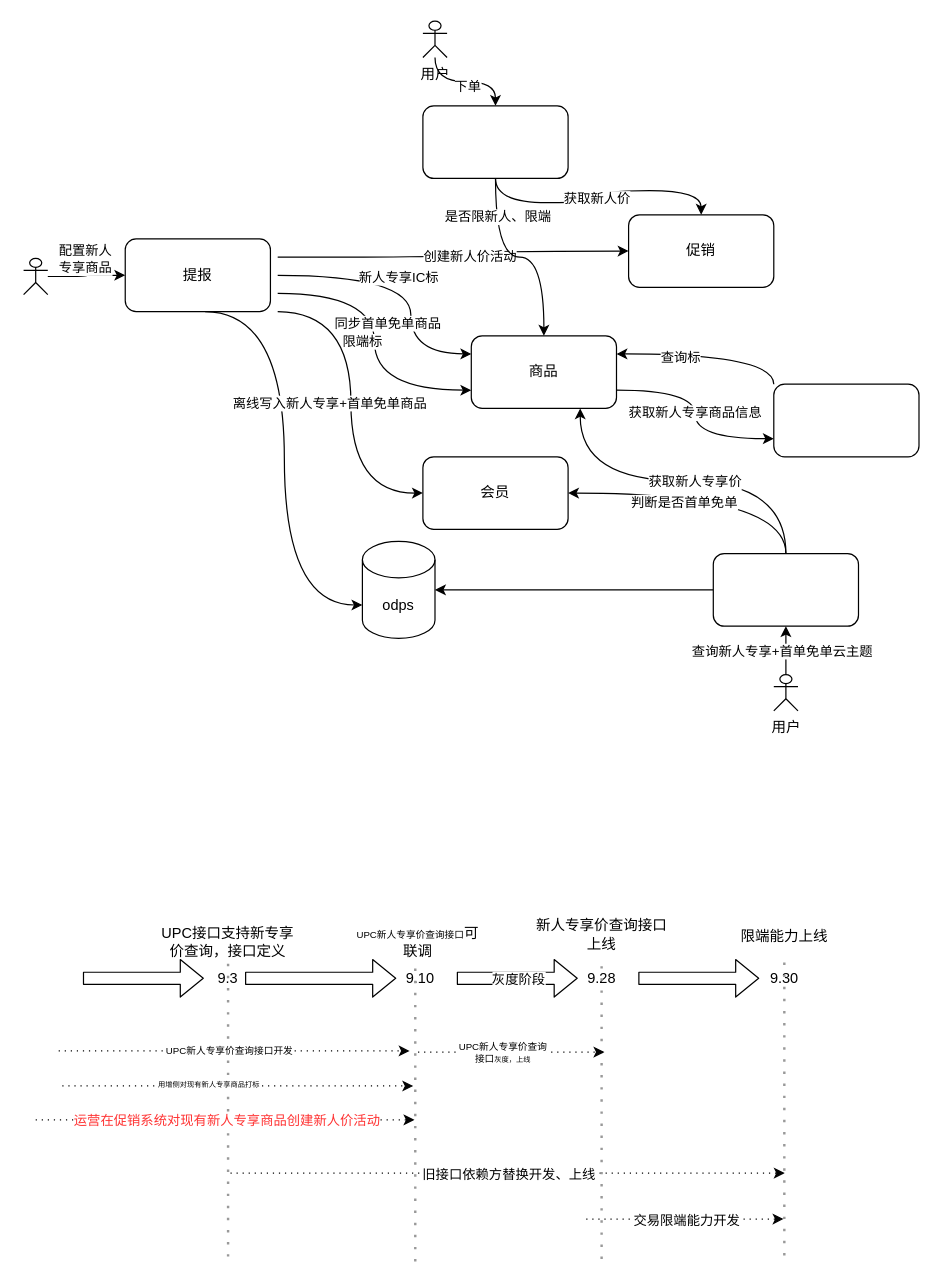
Some shapes in this 940 by 1285 pixel diagram are drawn without their labels. The centre of each missing label's shape, as x and y in pixels:
"kaola-market-compose" goes at [846,420].
"交易" goes at [495,141].
"搜索" goes at [785,589].
"运营" goes at [35,276].
